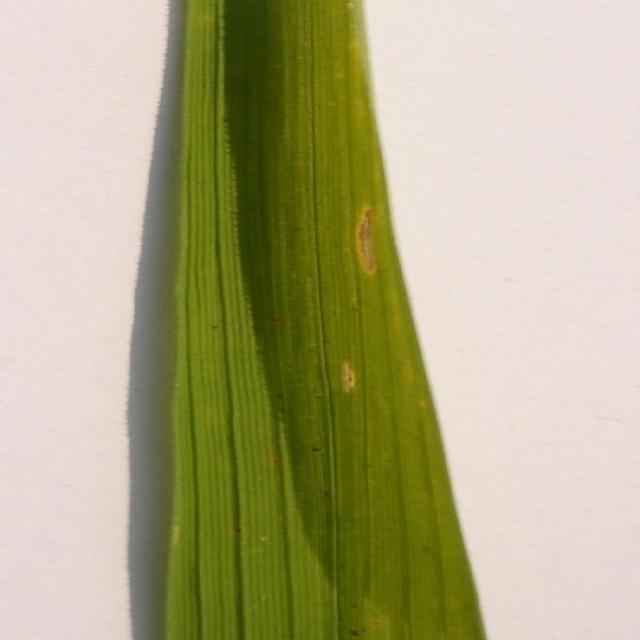leaf blight: (335, 191, 400, 305), (333, 358, 371, 403)
